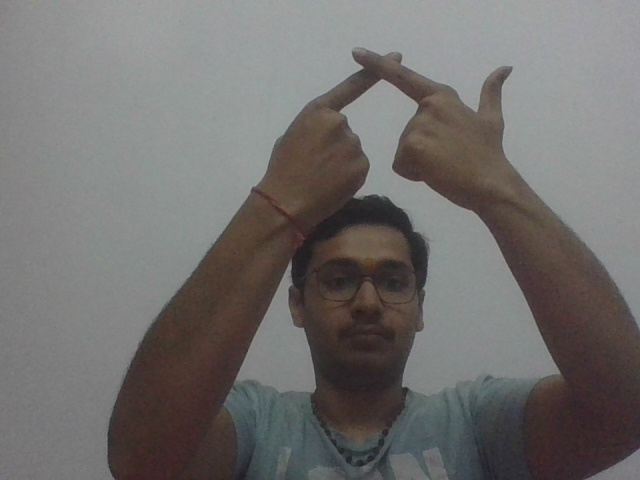J: (285, 41, 509, 196)
